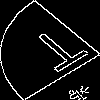T: (25, 25, 99, 80)
